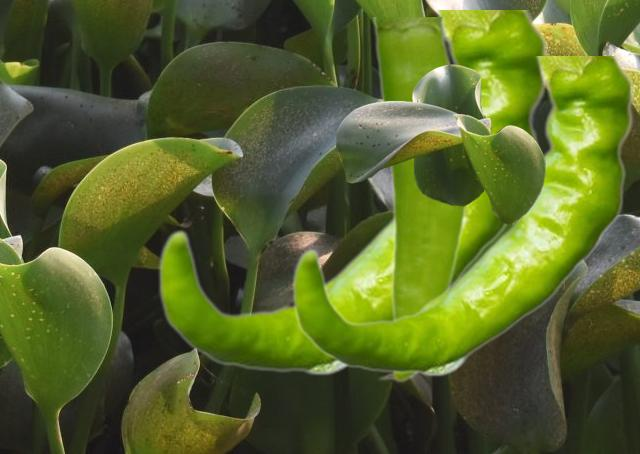green_chili: (158, 10, 548, 375), (292, 56, 634, 376), (371, 17, 466, 382)
